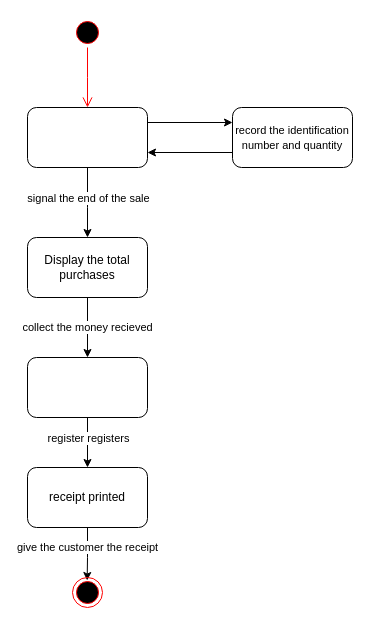
Some shapes in this 370 by 625 pixel diagram are drawn without their labels. Each missing label, with the box of its shape:
Display price and description: (26, 106, 148, 168)
Indicate the currency to be returned: (26, 356, 148, 418)
